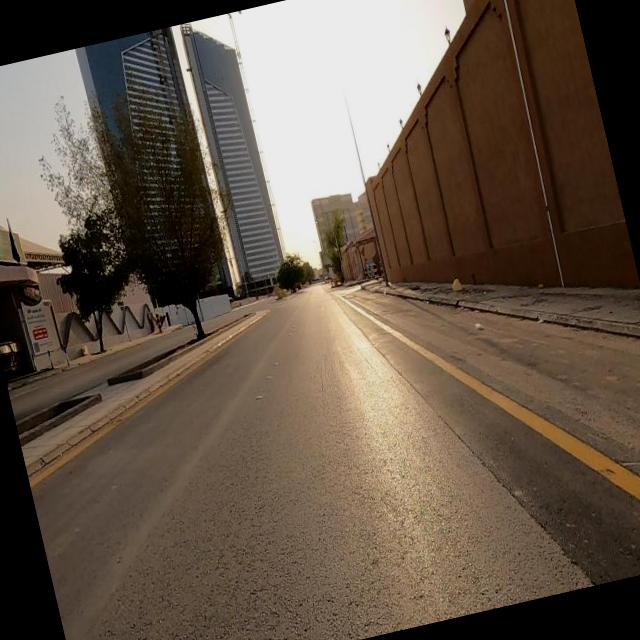debris: (444, 286, 522, 374), (424, 240, 484, 330)
